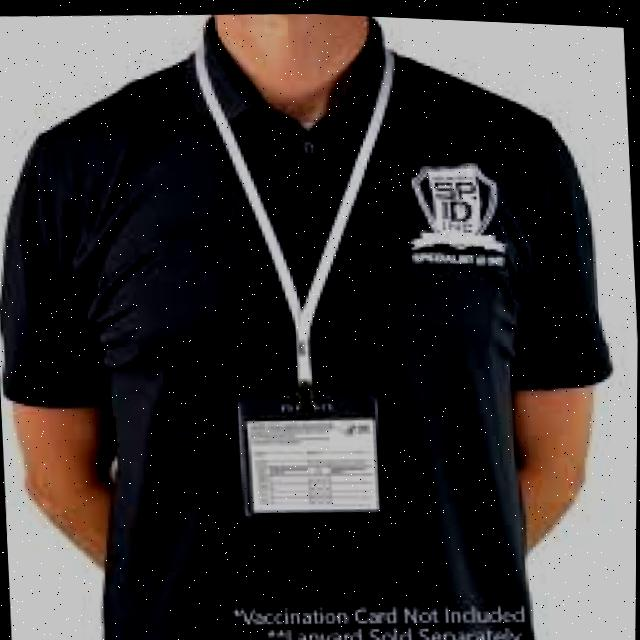id_card: (186, 20, 417, 529)
